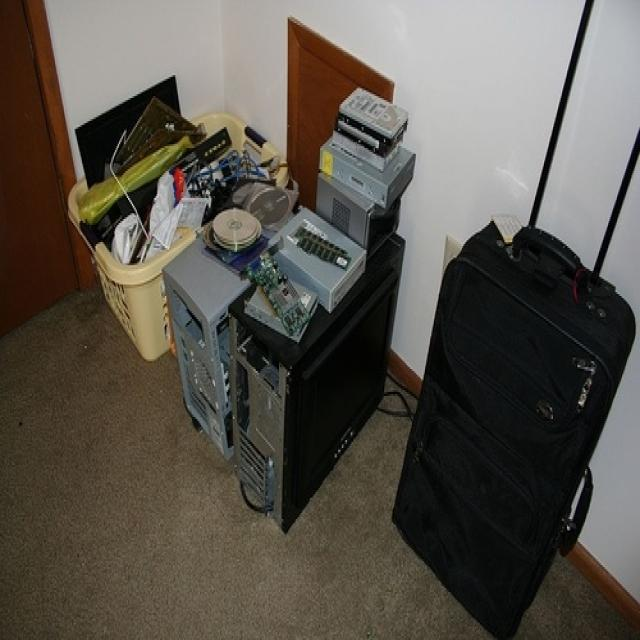E-waste: (169, 101, 416, 501)
Plastics: (65, 199, 162, 369)
